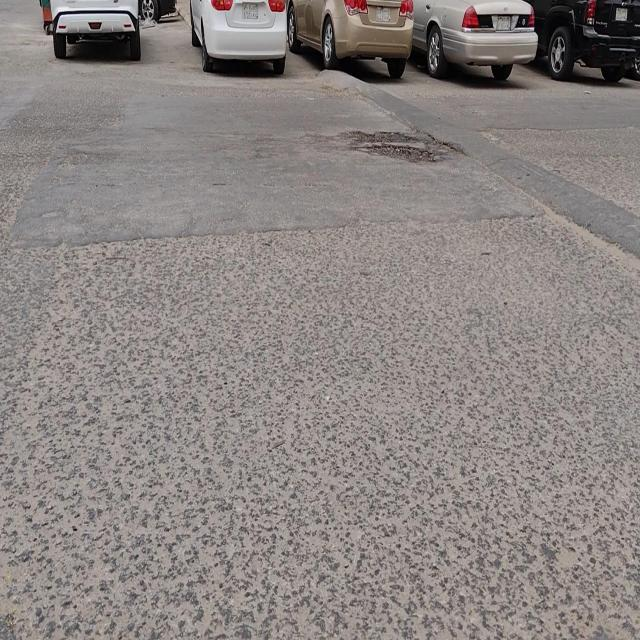Potholes: (348, 128, 449, 166)
